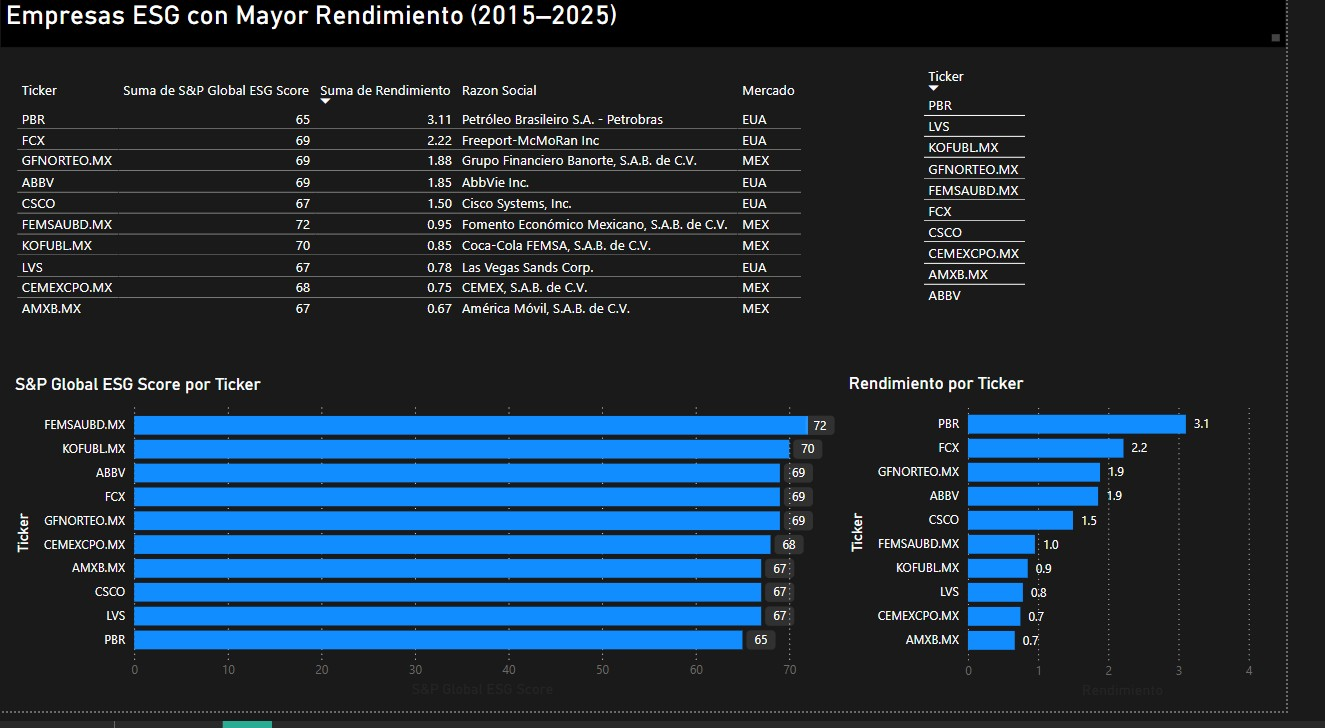

What the dashboard file says about the page in this screenshot:
{"tool":"powerbi","page":{"name":"ESG_Top","canvas":[1280,720],"ordinal":0},"visuals":[{"type":"tableEx","fields":{"Values":["Sheet1.Ticker","Sum(Sheet1.S&P Global ESG Score)","Sum(Sheet1.Rendimiento)","Sheet1.Razon Social ","Sheet1.Mercado "]},"box":[10,84.6,828.5,266.2],"z":0},{"type":"clusteredBarChart","fields":{"Category":["Sheet1.Ticker"],"Y":["Sum(Sheet1.S&P Global ESG Score)"]},"box":[9.6,384.2,828.8,326.6],"z":1000},{"type":"clusteredBarChart","fields":{"Category":["Sheet1.Ticker"],"Y":["Sum(Sheet1.Rendimiento)"]},"box":[839.7,383.1,440.4,328.4],"z":2000},{"type":"tableEx","fields":{"Values":["Sheet1.Ticker"]},"box":[913.1,72.1,130.6,255],"z":3000},{"type":"textbox","title":"Empresas ESG con Mayor Rendimiento (2015–2025)","box":[0,10,1280,49.8],"z":4000}]}

Visuals, with their boxes in screenshot pixels (x1, y1, x2, y2), scaled from the page's 1280x720 canvas onto the 1325x728 screenshot:
tableEx - Sheet1.Ticker x Sum(Sheet1.S&P Global ESG Score): detection(10, 86, 868, 355)
clusteredBarChart - Sheet1.Ticker x Sum(Sheet1.S&P Global ESG Score): detection(10, 388, 868, 719)
clusteredBarChart - Sheet1.Ticker x Sum(Sheet1.Rendimiento): detection(869, 387, 1324, 719)
tableEx - Sheet1.Ticker: detection(945, 73, 1080, 331)
"Empresas ESG con Mayor Rendimiento (2015–2025)" textbox: detection(0, 10, 1324, 60)
